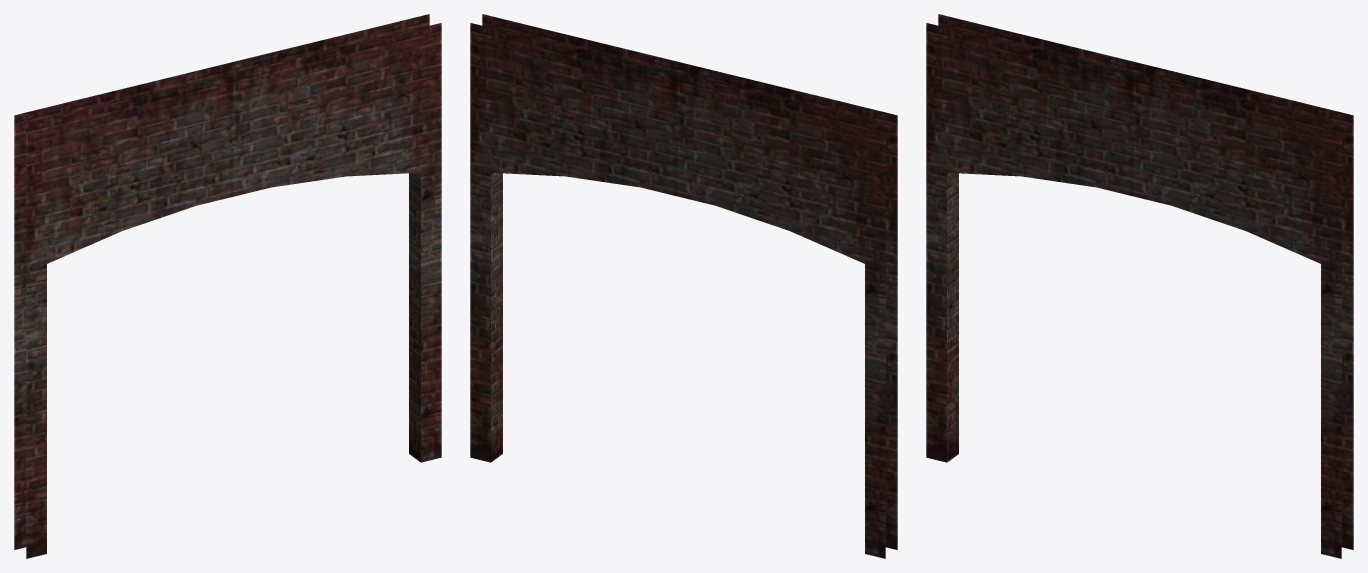
The model's file is wall_brick_archway_1.obj.
3 renders of one model, left to right at view 1: azimuth 30°, elevation 25°; view 2: azimuth 150°, elevation 25°; view 3: azimuth 330°, elevation 25°, orthographic.
Visible parts, largest first — view 1: Wall_Archway_Wide_Cap; view 2: Wall_Archway_Wide_Cap; view 3: Wall_Archway_Wide_Cap.
Boxes of the visible parts, box(x1,y1,x2,y2) form: Wall_Archway_Wide_Cap: box(14, 14, 441, 558); Wall_Archway_Wide_Cap: box(470, 14, 897, 558); Wall_Archway_Wide_Cap: box(926, 14, 1353, 558).
Size of the model in its own units: 3 by 3 by 0.15.
1 material, 1 textured.
